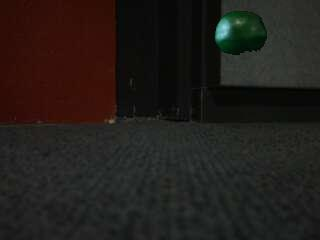Lime: (214, 10, 268, 55)
